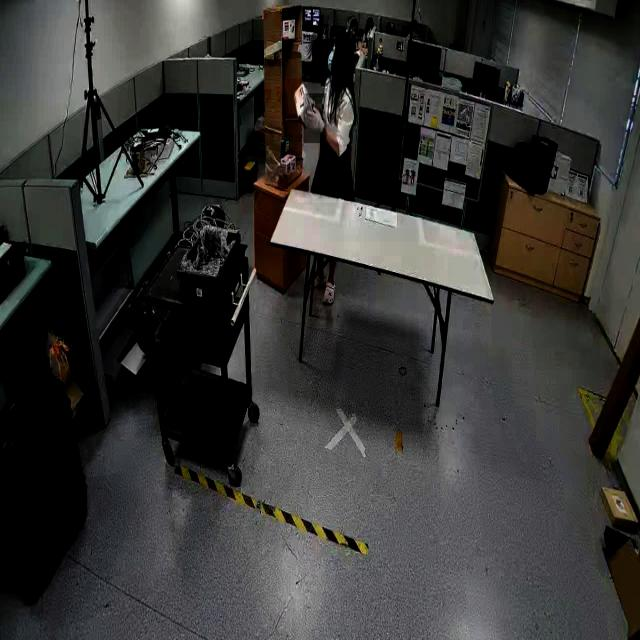face_mask: (324, 40, 340, 75)
hand_glove: (303, 93, 327, 144)
head_nohelmet: (332, 31, 356, 48)
person: (297, 22, 360, 204)
